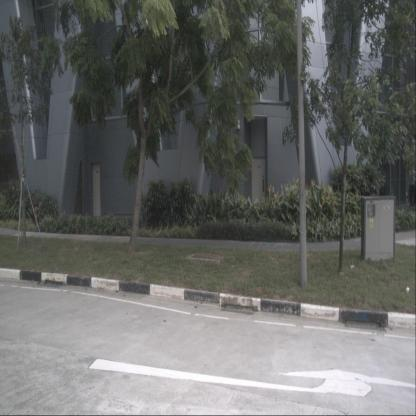human-pedestrian-adult: (406, 163, 416, 208)
